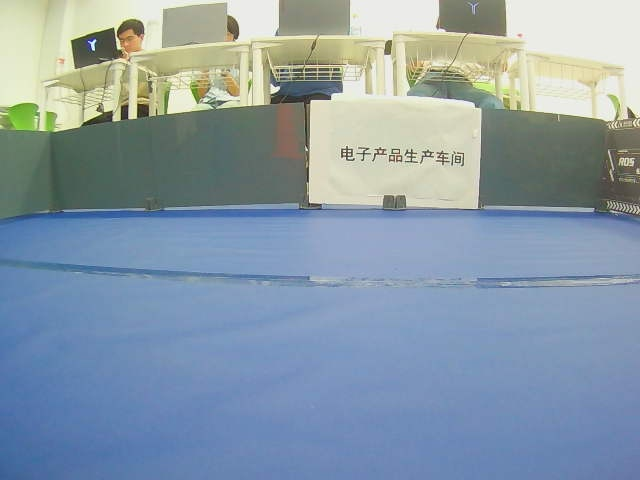target: (340, 144, 465, 167)
